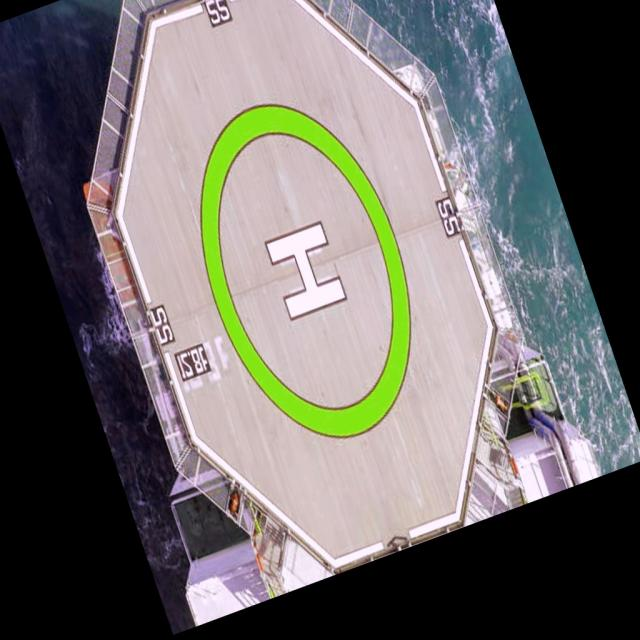helipad: (194, 100, 416, 444)
